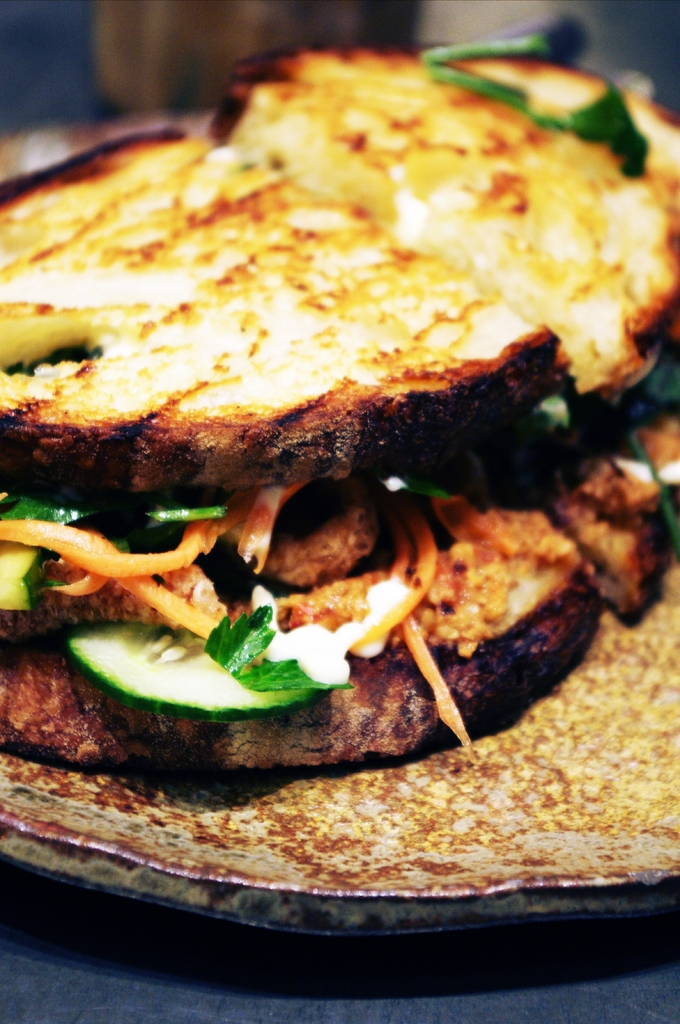Hamburger: (0, 35, 679, 779)
